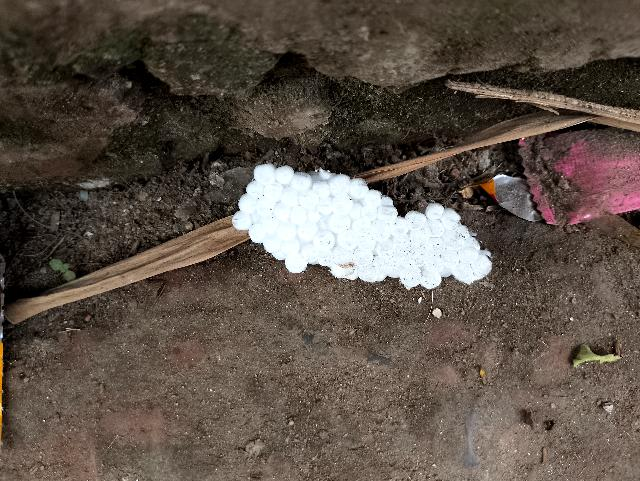cocksheet: (231, 165, 498, 304)
